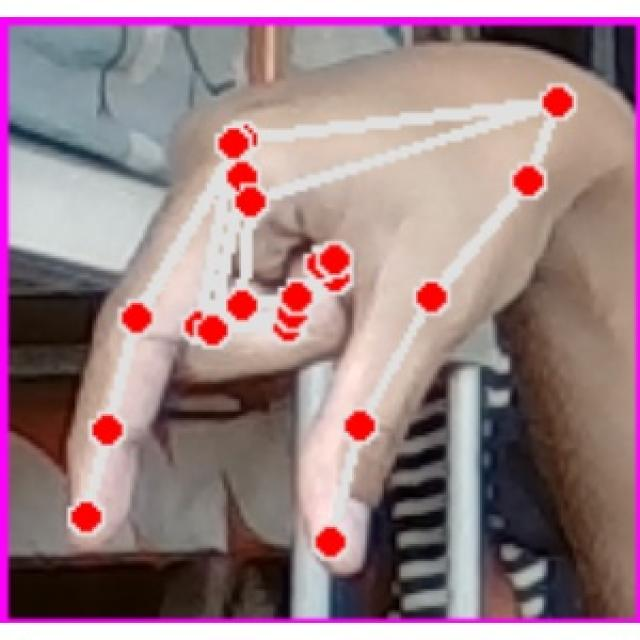Q: (38, 34, 608, 586)
